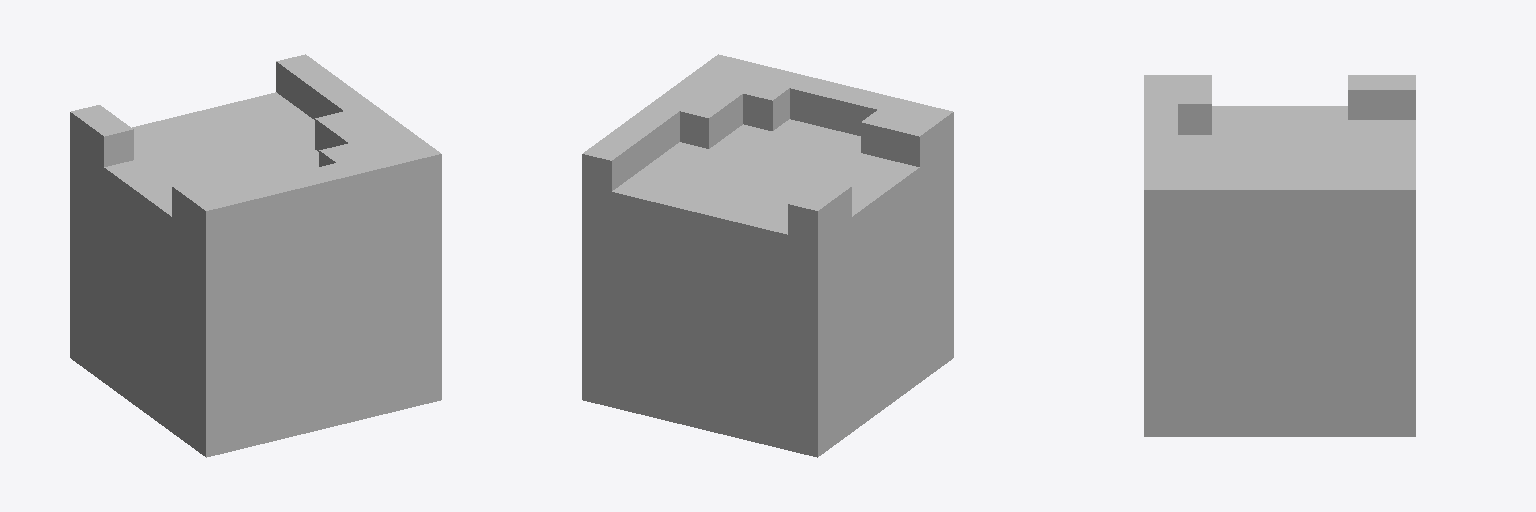
Rendered from PathTurn.obj.
3 views of the same model, side by side, from view 1: azimuth 30°, elevation 25°; view 2: azimuth 150°, elevation 25°; view 3: azimuth 270°, elevation 25° (orthographic).
Visible parts, largest first — view 1: object 1; view 2: object 1; view 3: object 1.
Part boxes in pixels (x1,y1,x2,y2): object 1: (70,54,441,457); object 1: (582,54,953,457); object 1: (1144,75,1415,436).
Bounding box in the file's own units: 0.8 × 0.8 × 0.8.